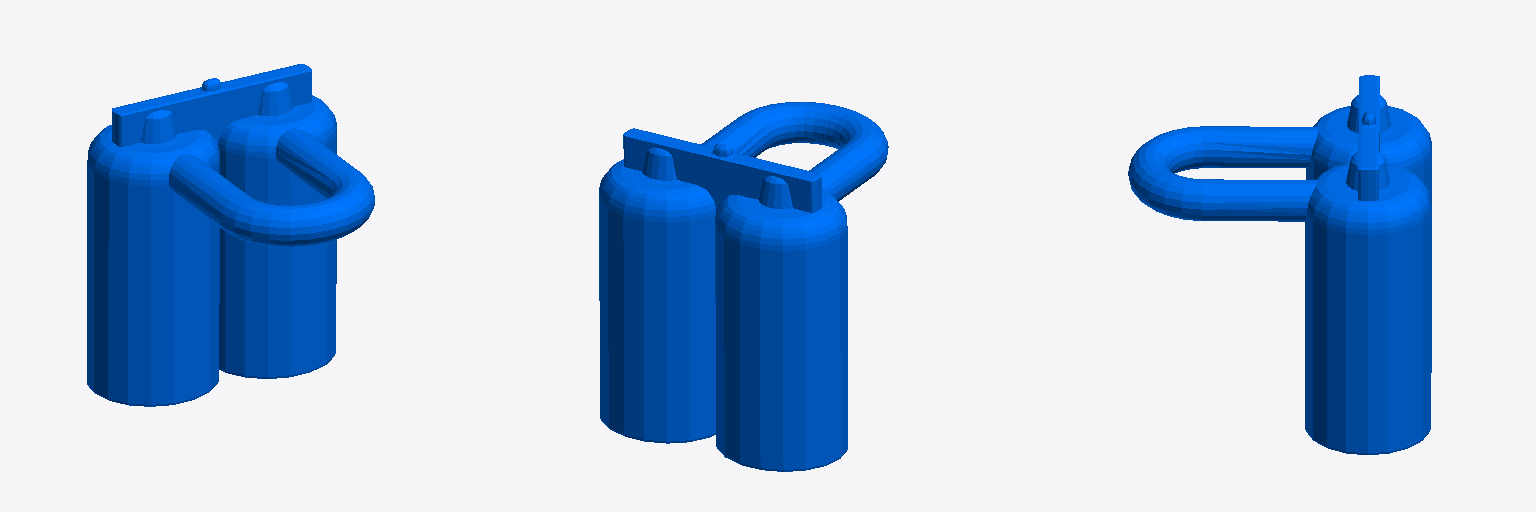
The picture shows the model from 3 angles: view 1: azimuth 30°, elevation 25°; view 2: azimuth 150°, elevation 25°; view 3: azimuth 270°, elevation 25°; orthographic projection.
Parts seen in each view (by area): view 1: gas; view 2: gas; view 3: gas.
Boxes of the visible parts, box(x1,y1,x2,y2) form: gas: box(87, 64, 374, 406); gas: box(599, 102, 888, 471); gas: box(1128, 75, 1431, 454).
Bounding box in the file's own units: 0.89 × 1.04 × 0.9957.
Materials: 1 (1 with a texture image).